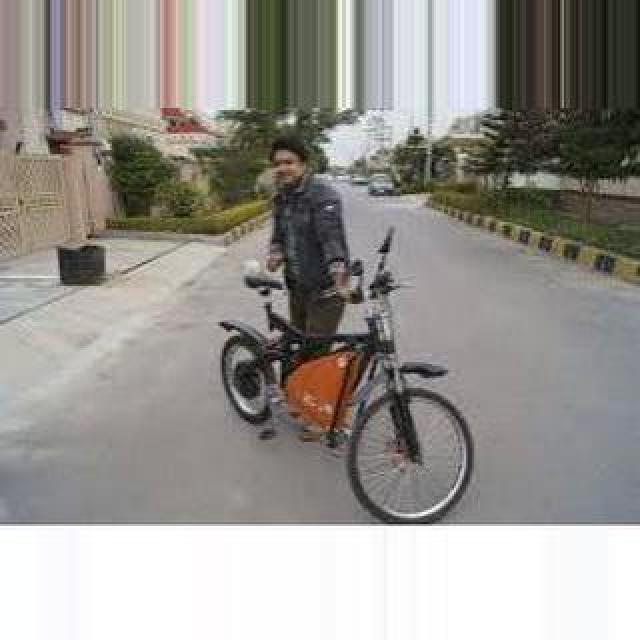MC-Bike: (250, 134, 360, 430)
Person: (218, 226, 478, 524)
